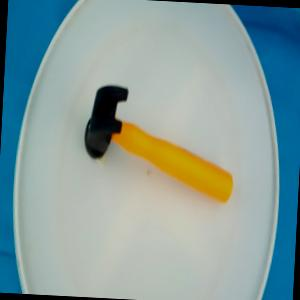martelo: (80, 82, 238, 204)
